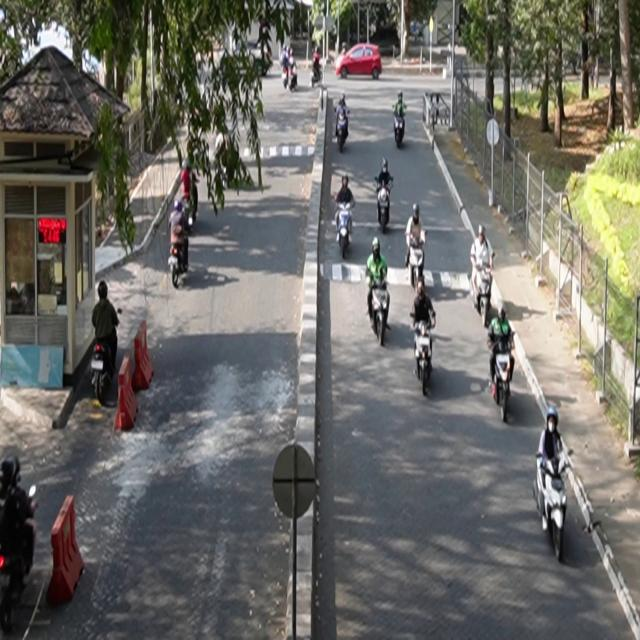car: (336, 44, 383, 81)
